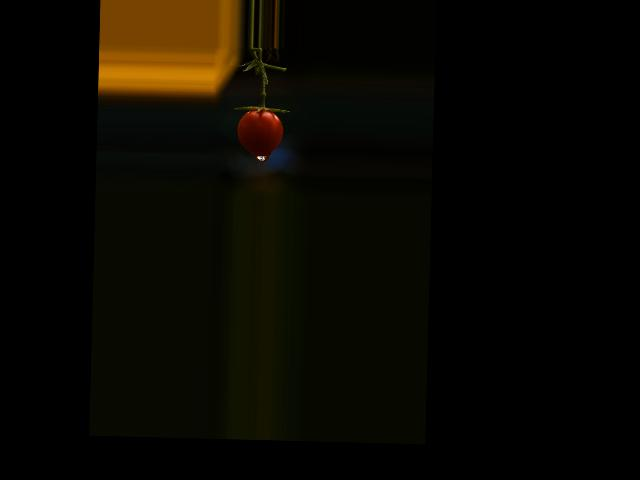tomato: (237, 108, 284, 155)
